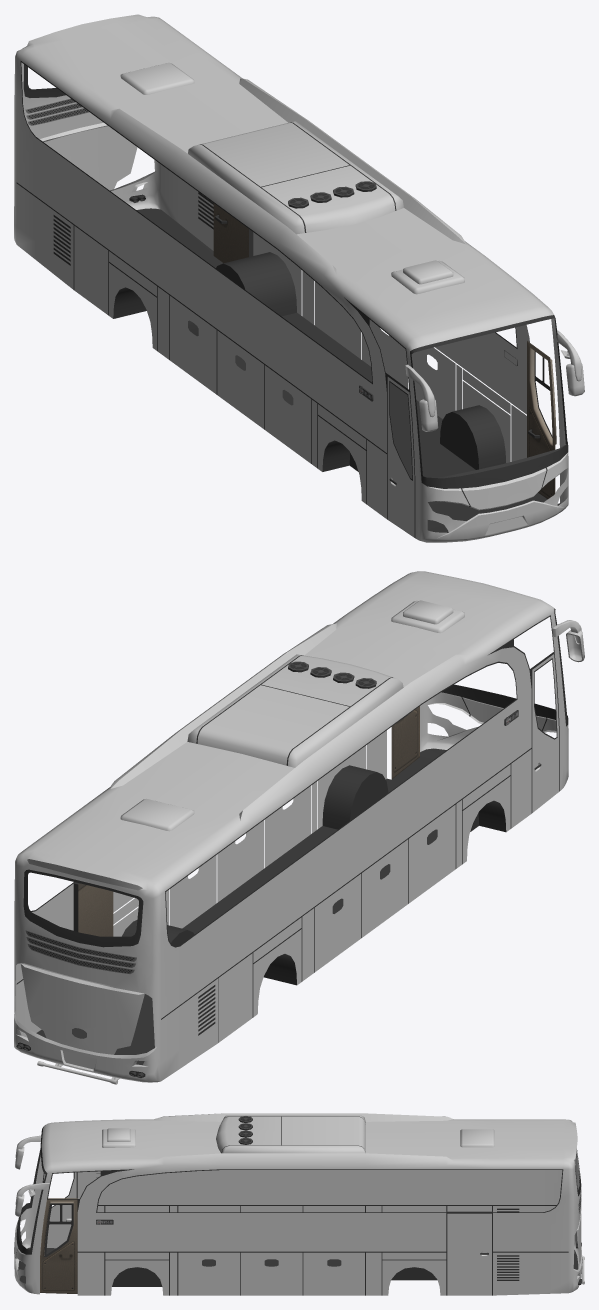
File: JetBus HD.FBX
3 renders of one model, top to bottom at view 1: azimuth 30°, elevation 25°; view 2: azimuth 150°, elevation 25°; view 3: azimuth 270°, elevation 25°, orthographic. The views are drawn at different scales.
Visible parts, largest first — view 1: livery, PintuDepanDalam, PintuBelakangDalam; view 2: livery, PintuBelakangDalam, PintuDepanDalam; view 3: livery, PintuBelakang, PintuDepanDalam.
Part boxes in pixels (x1=…): livery: x1=14, y1=14, x2=584, y2=542; PintuDepanDalam: x1=527, y1=341, x2=556, y2=498; PintuBelakangDalam: x1=213, y1=203, x2=248, y2=262; livery: x1=14, y1=571, x2=584, y2=1084; PintuBelakangDalam: x1=78, y1=883, x2=113, y2=936; PintuDepanDalam: x1=391, y1=706, x2=419, y2=779; livery: x1=14, y1=1113, x2=584, y2=1295; PintuBelakang: x1=446, y1=1211, x2=492, y2=1295; PintuDepanDalam: x1=40, y1=1198, x2=77, y2=1293.
Bounding box in the file's own units: 286 × 372 × 1322.
